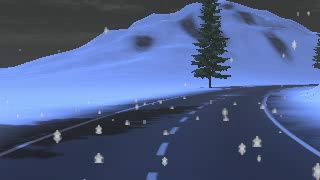Lane: (1, 84, 319, 179)
